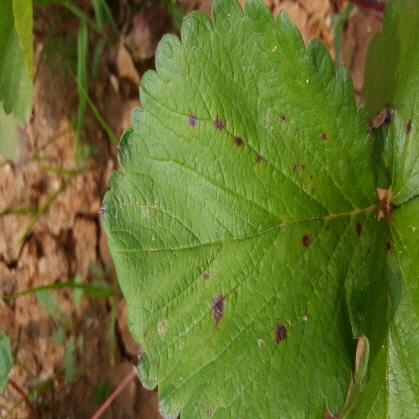Leaf Spot: (99, 0, 384, 418)
